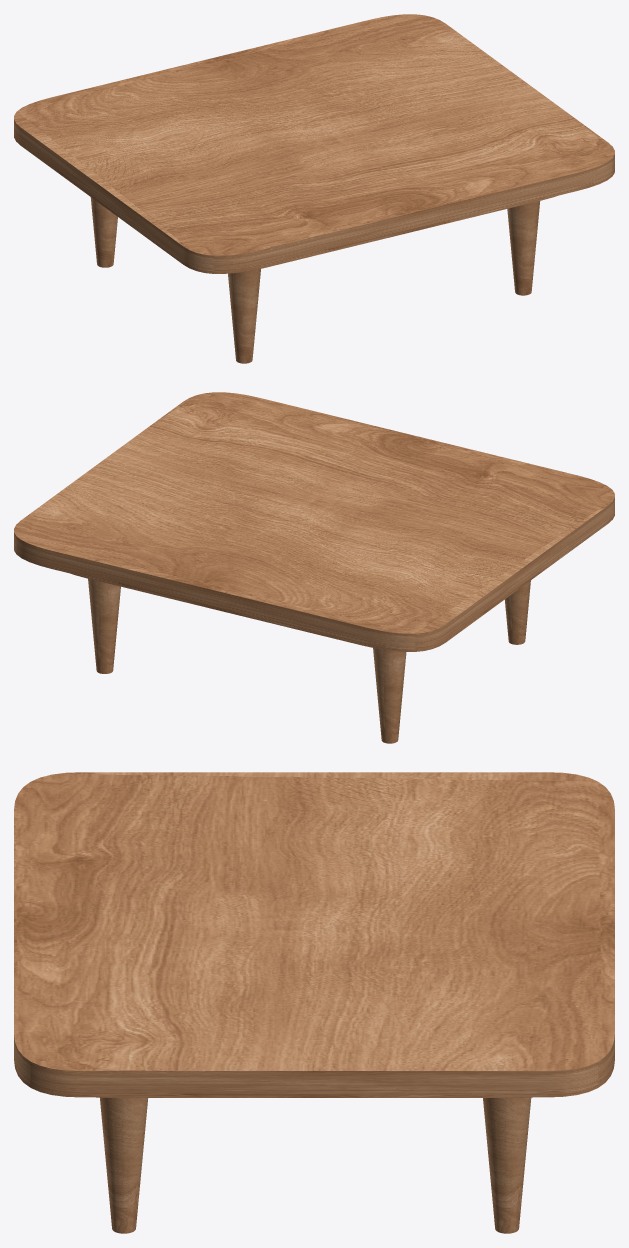
File: tawlakhchab.fbx
3 renders of one model, top to bottom at view 1: azimuth 30°, elevation 25°; view 2: azimuth 150°, elevation 25°; view 3: azimuth 270°, elevation 25°, orthographic. The views are drawn at different scales.
Visible parts, largest first — view 1: Box004; view 2: Box004; view 3: Box004.
Part boxes in pixels (left/top/right/bottom): Box004: left=14, top=14, right=614, bottom=363; Box004: left=14, top=392, right=614, bottom=743; Box004: left=14, top=772, right=614, bottom=1233.
Size of the model in its own units: 62.01 by 52.71 by 20.
